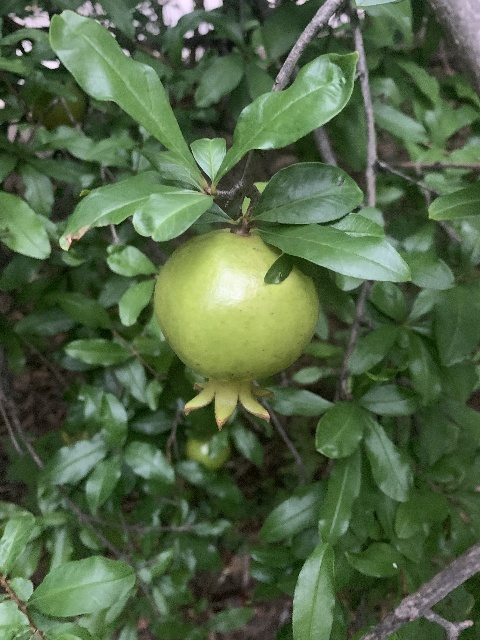mid-growth: (153, 229, 319, 431)
